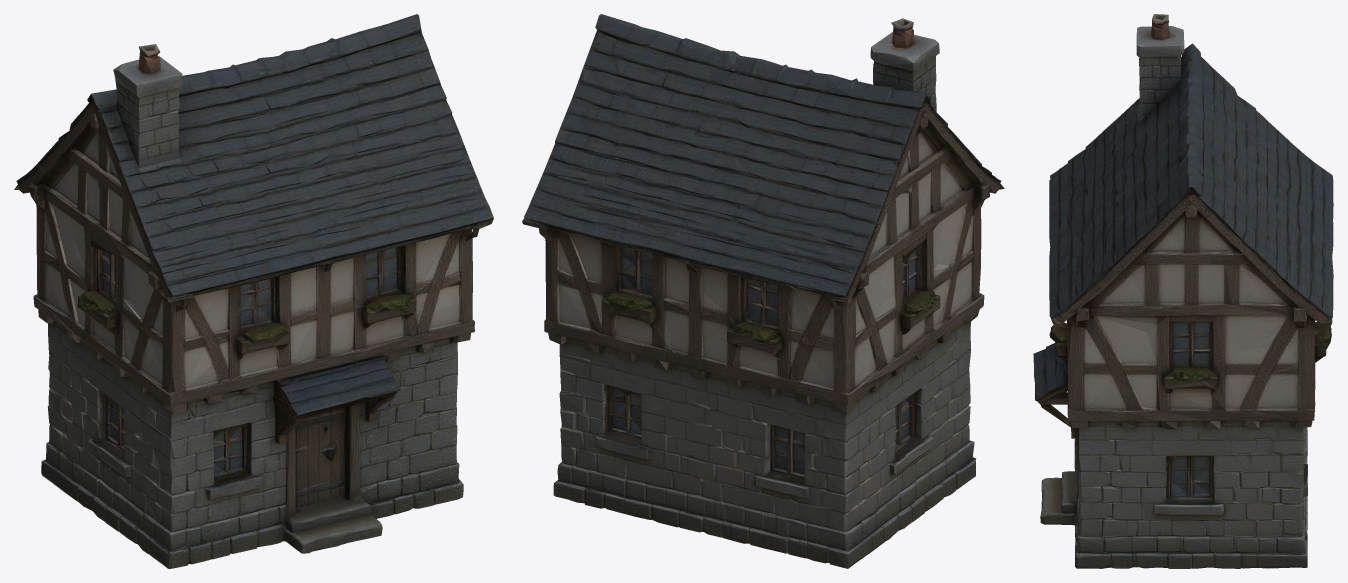
The model's file is bld_house_player_normal_a_LOD0.glb.
3 views of the same model, side by side, from view 1: azimuth 30°, elevation 25°; view 2: azimuth 150°, elevation 25°; view 3: azimuth 270°, elevation 25° (orthographic). The views are drawn at different scales.
Parts seen in each view (by area): view 1: tripo_mesh_fea36579-74ec-4cd0-bc5c-d793a20b3e2c; view 2: tripo_mesh_fea36579-74ec-4cd0-bc5c-d793a20b3e2c; view 3: tripo_mesh_fea36579-74ec-4cd0-bc5c-d793a20b3e2c.
Boxes of the visible parts, bbox=[...] form: tripo_mesh_fea36579-74ec-4cd0-bc5c-d793a20b3e2c: bbox=[14, 14, 493, 568]; tripo_mesh_fea36579-74ec-4cd0-bc5c-d793a20b3e2c: bbox=[522, 14, 1004, 568]; tripo_mesh_fea36579-74ec-4cd0-bc5c-d793a20b3e2c: bbox=[1033, 14, 1333, 568].
Size of the model in its own units: 4.06 by 5.5 by 3.45.
1 material, 1 textured.
